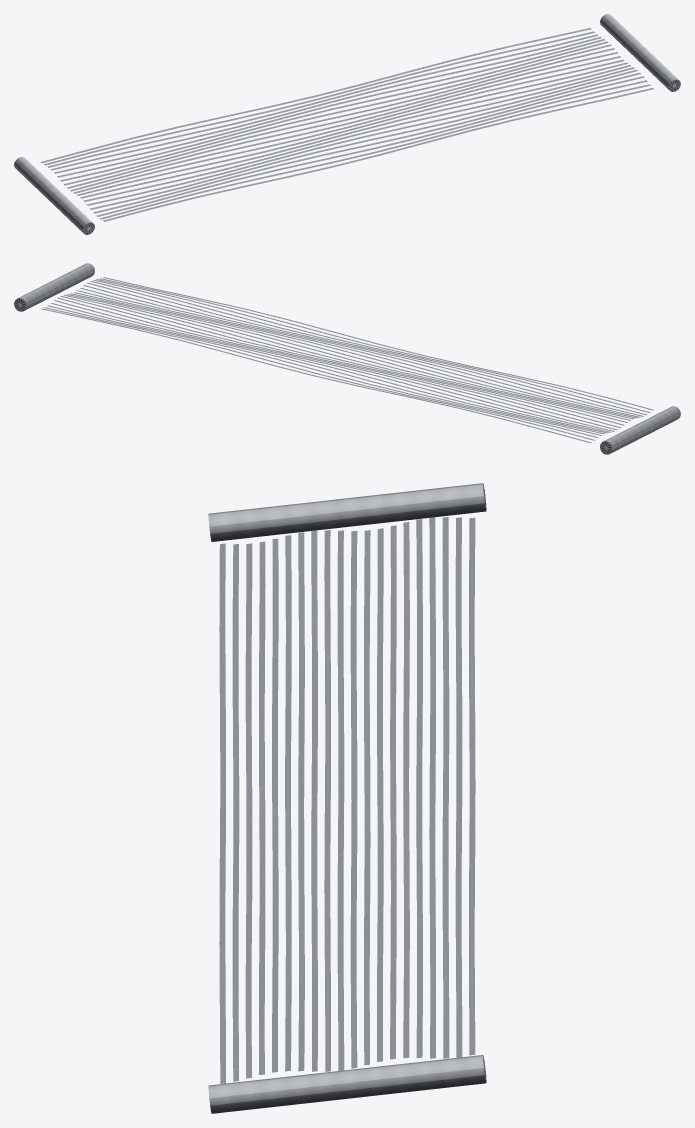
The model's file is snare_wires.obj.
The picture shows the model from 3 angles, top to bottom: view 1: azimuth 30°, elevation 25°; view 2: azimuth 150°, elevation 25°; view 3: azimuth 270°, elevation 25°; orthographic projection. The views are drawn at different scales.
Parts seen in each view (by area): view 1: drums; view 2: drums; view 3: drums.
Boxes of the visible parts, left/top/right/bottom form: drums: left=14, top=14, right=680, bottom=234; drums: left=14, top=263, right=680, bottom=454; drums: left=208, top=483, right=486, bottom=1113.
Size of the model in its own units: 0.2696 by 0.0121 by 0.0543.
